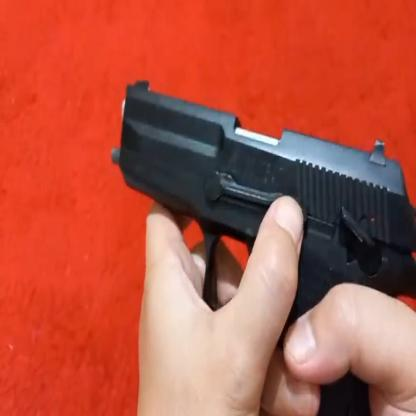handgun: (109, 73, 416, 318)
